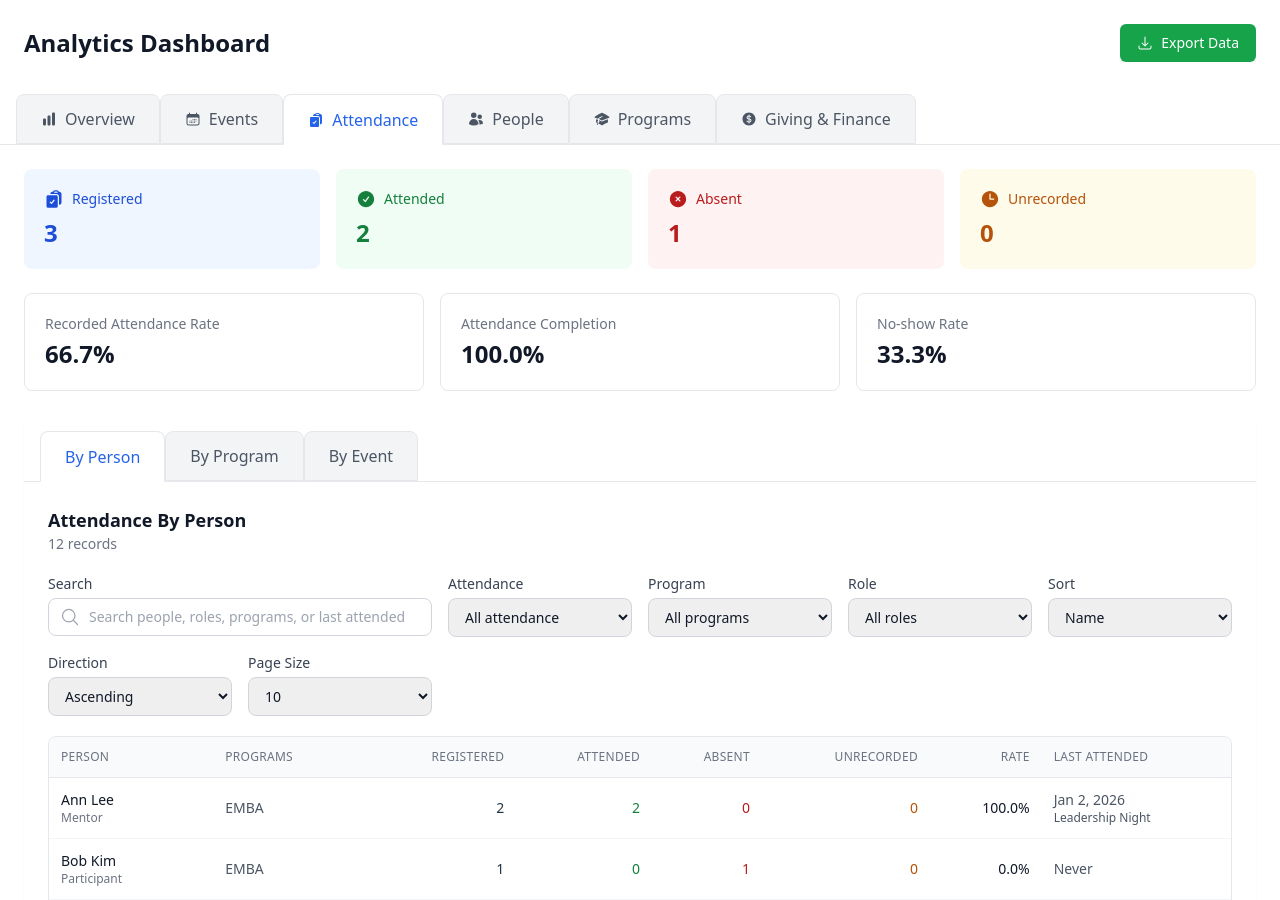
Analytics tabs › renders attendance analysis in nested tabs and keeps unrelated resources disabled
The width and height of the screenshot is (1280, 900).
Expected: the heading "Attendance By Person" is shown, [48,506,246,534]
Expected: the text "Attendance By Program" is not shown
Click the tab "By Program": {"x": 234, "y": 456} [165,431,304,481]
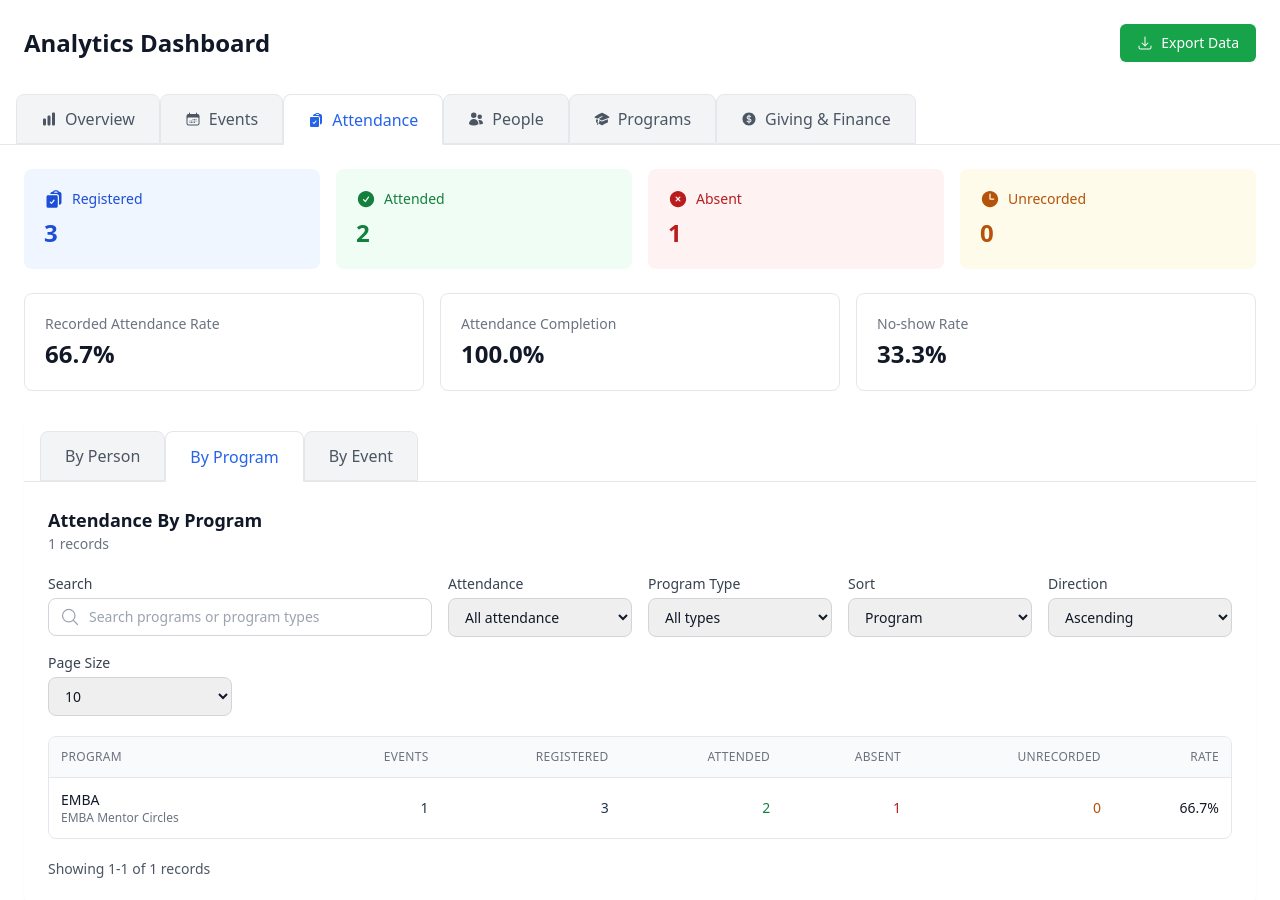
Expected: the text "EMBA" is shown, [61,790,100,809]
Expected: the heading "Attendance By Program" is shown, [48,506,262,534]
Click the tab "By Event": {"x": 361, "y": 456} [304,431,418,481]
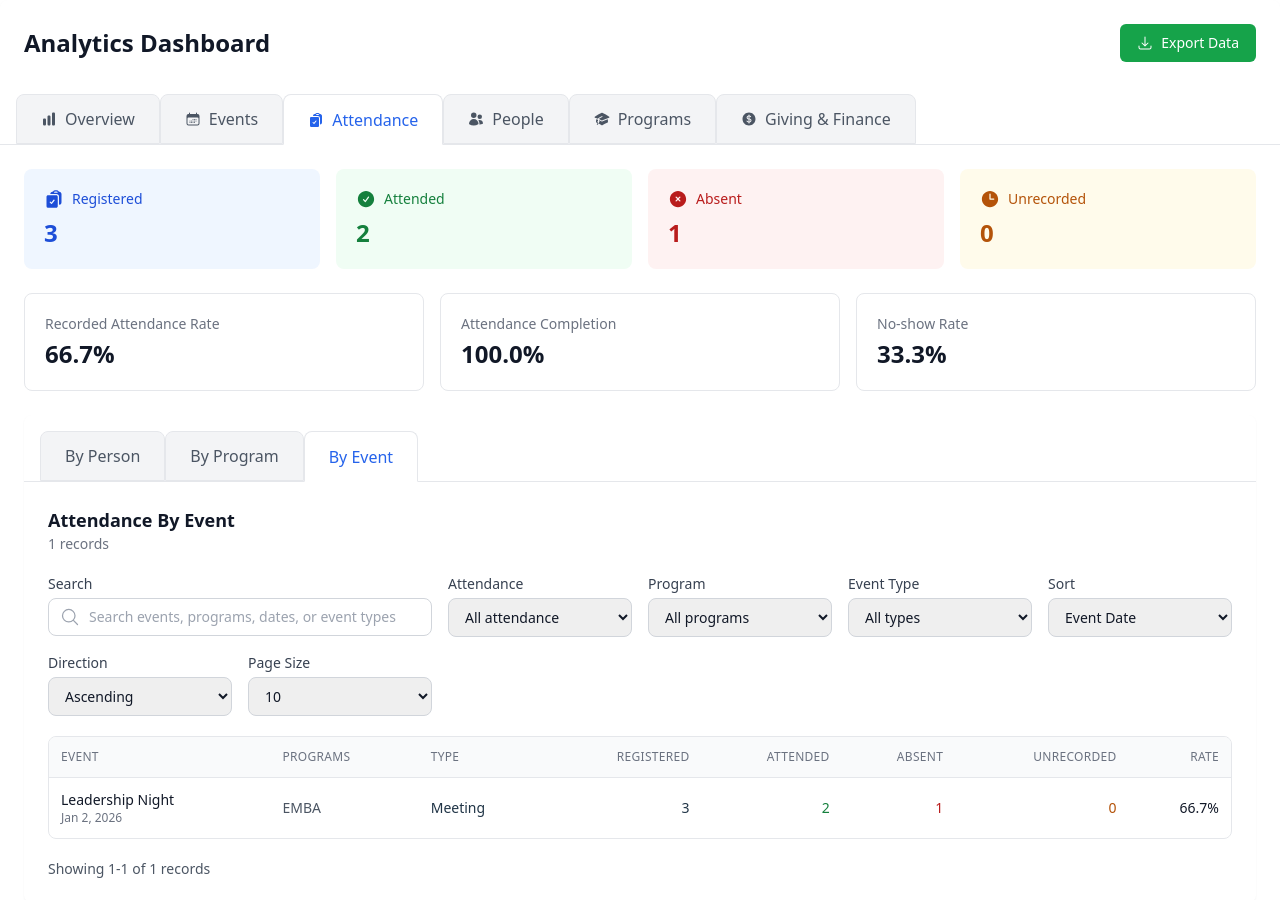
Expected: the heading "Attendance By Event" is shown, [48,506,235,534]
Expected: the text "Leadership Night" is shown, [61,790,174,809]
